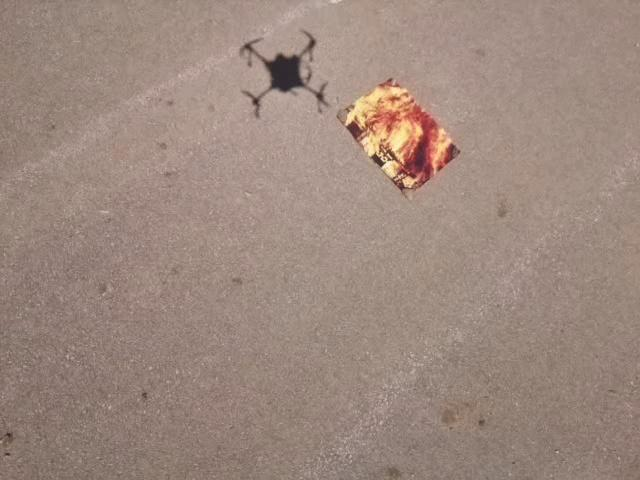fire-poster: (335, 75, 462, 200)
